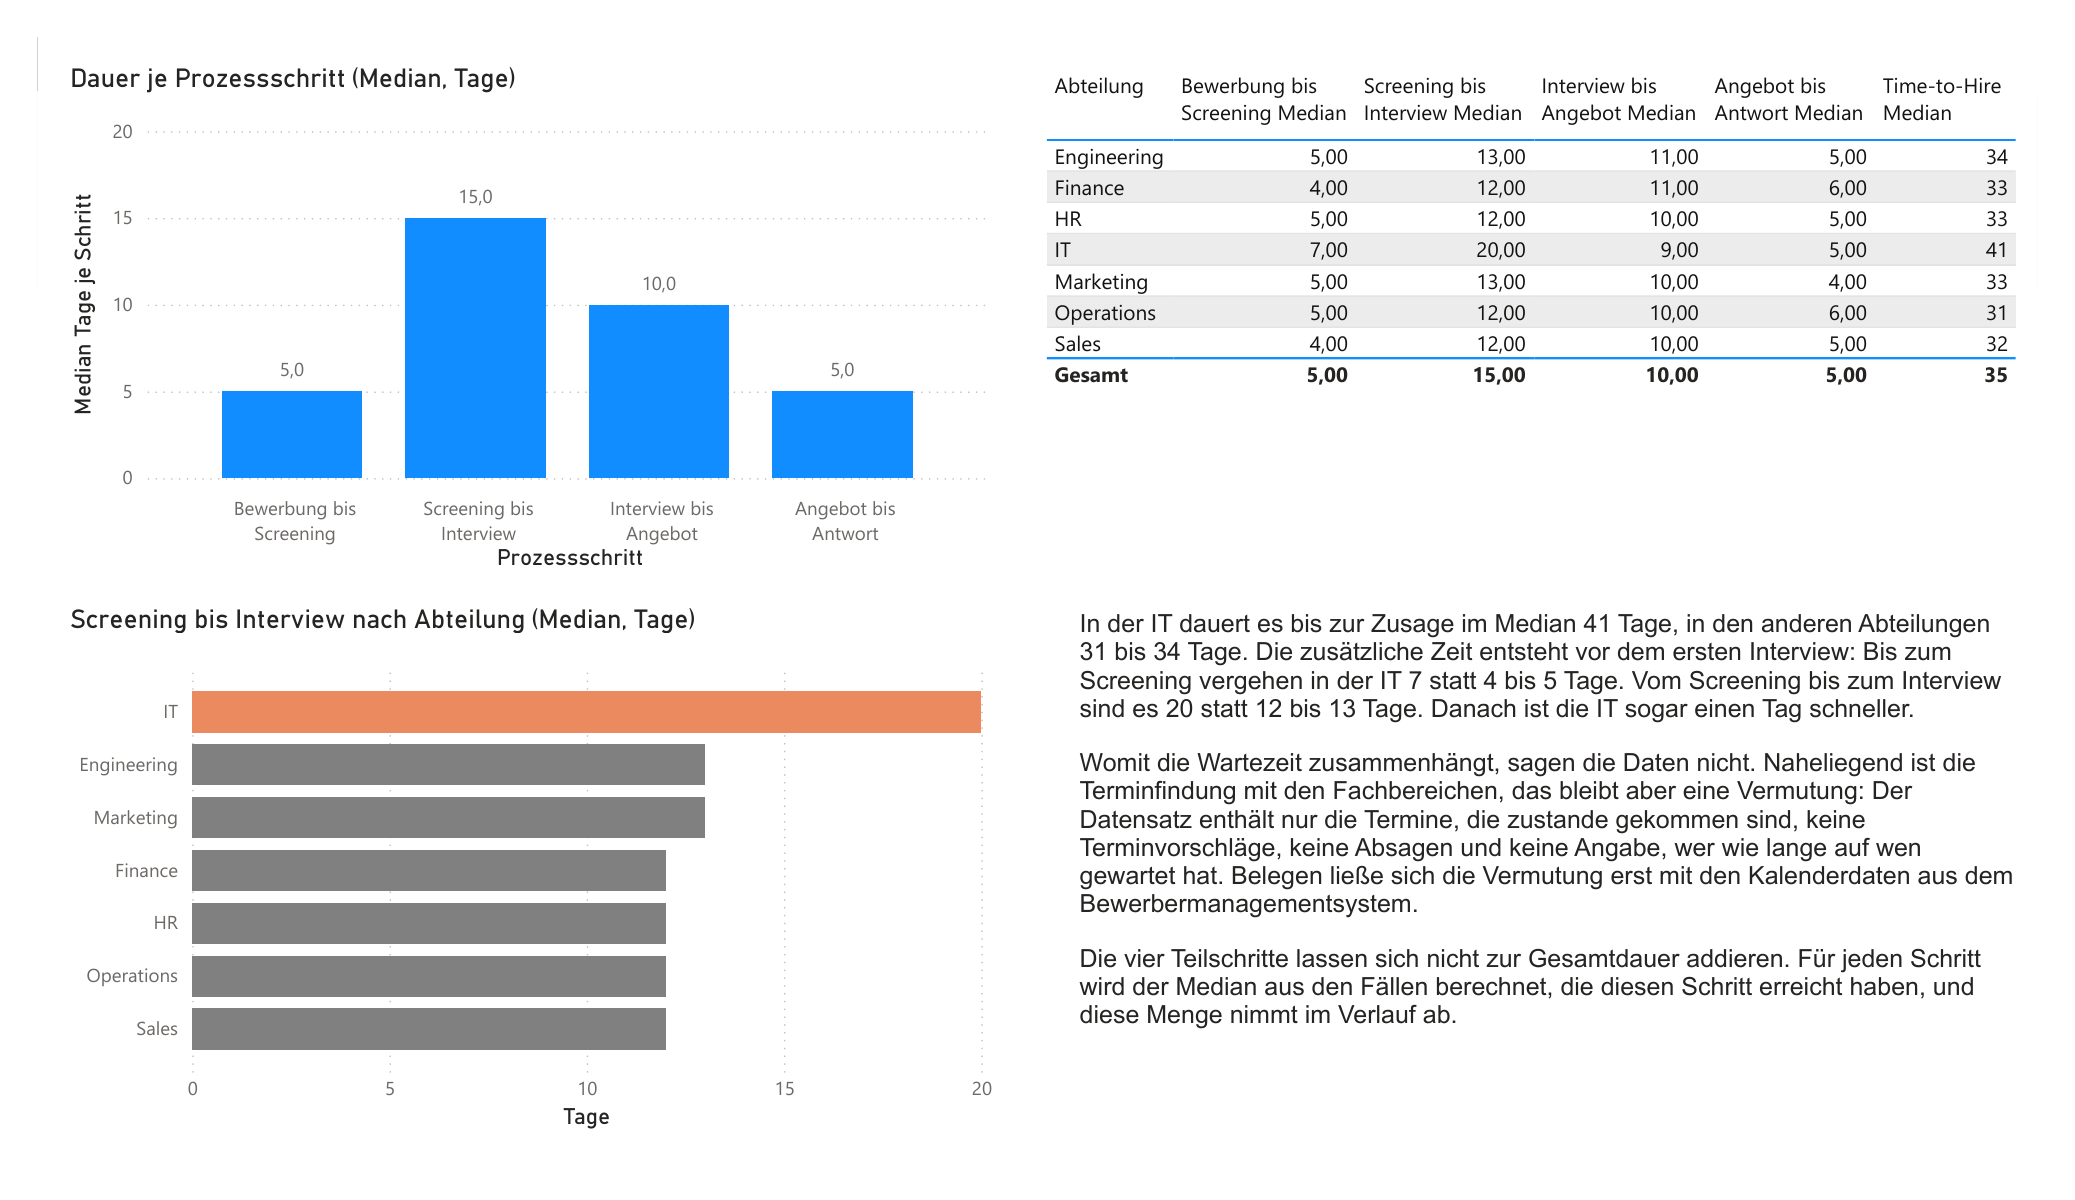

The dashboard page shown, as its layout file describes it:
{"tool":"powerbi","page":{"name":"Prozessdauer","canvas":[1280,720],"ordinal":1},"visuals":[{"type":"columnChart","title":"Dauer je Prozessschritt (Median, Tage)","fields":{"Category":["dim_step.step_name"],"Y":["fact_application.Median Tage je Schritt"]},"box":[16,16,600,330],"z":0},{"type":"barChart","title":"Screening bis Interview nach Abteilung (Median, Tage)","fields":{"Category":["dim_job.department"],"Y":["fact_application.Screening bis Interview Median"]},"box":[16,362,600,342],"z":1000},{"type":"tableEx","fields":{"Values":["dim_job.department","fact_application.Bewerbung bis Screening Median","fact_application.Screening bis Interview Median","fact_application.Interview bis Angebot Median","fact_application.Angebot bis Antwort Median","fact_application.Time-to-Hire Median"]},"box":[640,15.6,640,330.7],"z":2000},{"type":"textbox","box":[662,362,610,342],"z":3000}]}

Visuals, with their boxes on the page's 1280x720 design canvas (x1, y1, x2, y2). These are canvas units, not pixel positions in the 2075x1200 screenshot, which may show the page scaled, cropped or inside an application window:
"Dauer je Prozessschritt (Median, Tage)" columnChart: l=16, t=16, r=616, b=346
"Screening bis Interview nach Abteilung (Median, Tage)" barChart: l=16, t=362, r=616, b=704
tableEx - dim_job.department x fact_application.Bewerbung bis Screening Median: l=640, t=16, r=1280, b=346
textbox: l=662, t=362, r=1272, b=704
